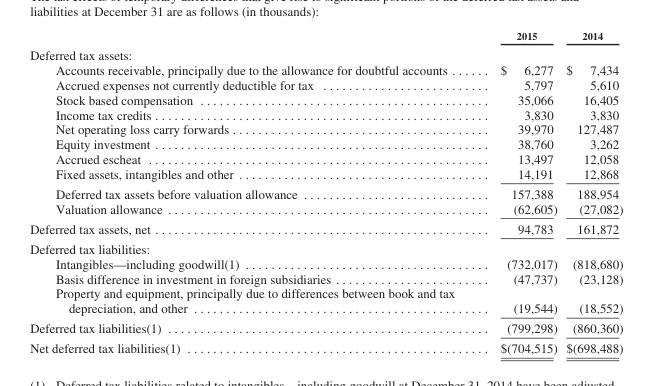table: (29, 29, 622, 355)
table column: (29, 29, 477, 355), (477, 29, 561, 355), (561, 29, 622, 355)
table column header: (29, 29, 622, 44)
table projected row header: (29, 44, 622, 62), (29, 238, 622, 255)
table row: (29, 285, 622, 317), (29, 218, 622, 238), (29, 317, 622, 337), (29, 44, 622, 62), (29, 200, 622, 218), (29, 337, 622, 355), (29, 166, 622, 183), (29, 183, 622, 200), (29, 238, 622, 255), (29, 29, 622, 44), (29, 76, 622, 91), (29, 91, 622, 106), (29, 106, 622, 121), (29, 121, 622, 136), (29, 136, 622, 151), (29, 151, 622, 166), (29, 255, 622, 270), (29, 270, 622, 285), (29, 62, 622, 76)
